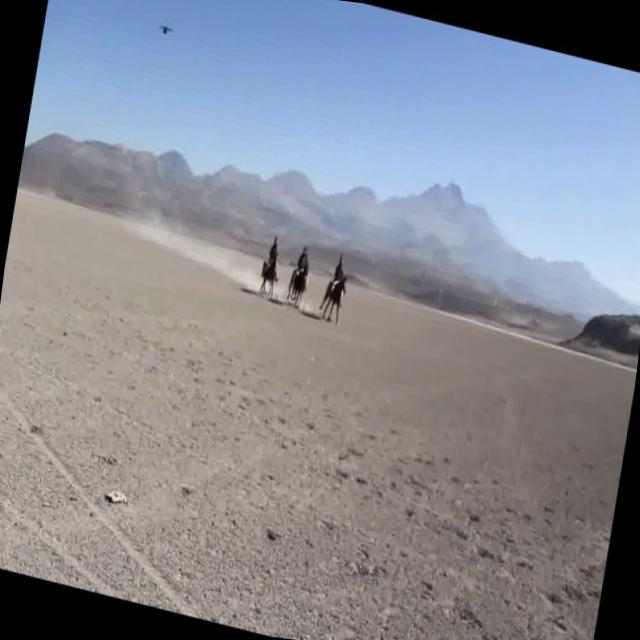drone: (155, 13, 174, 46)
